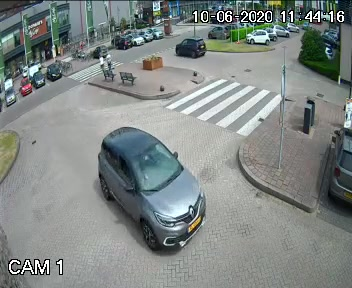car: (87, 122, 216, 251), (168, 33, 209, 63)
